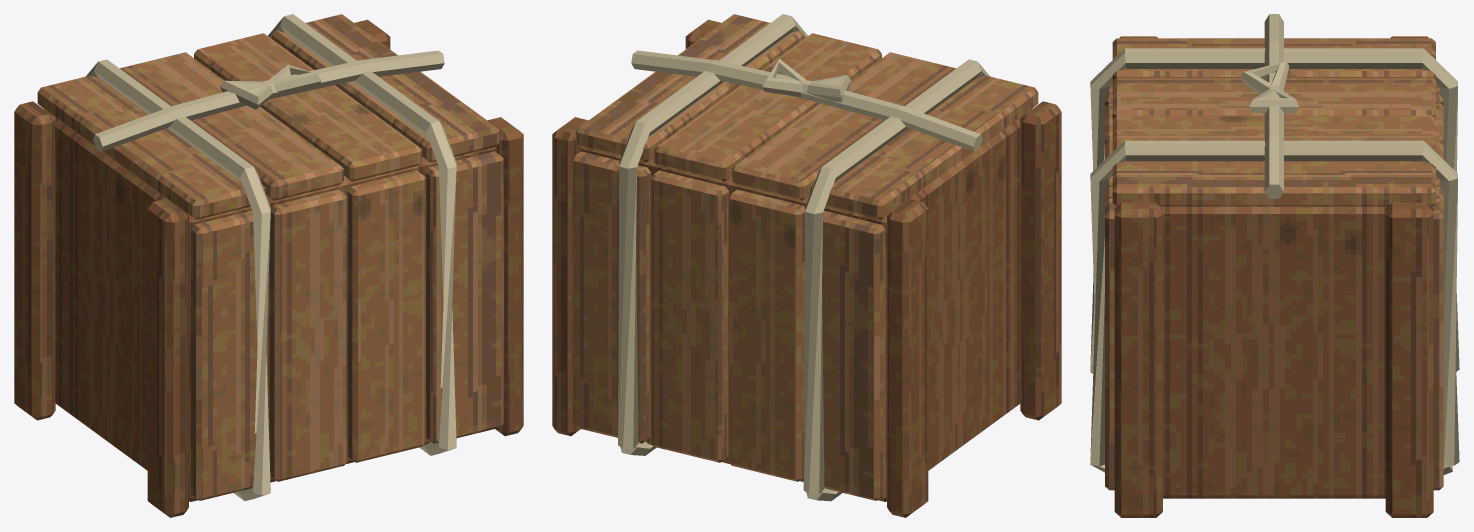
Rendered from holm_arrival_cargo_oldschool_v1.glb.
The picture shows the model from 3 angles, left to right: view 1: azimuth 30°, elevation 25°; view 2: azimuth 150°, elevation 25°; view 3: azimuth 270°, elevation 25°; orthographic projection.
Visible parts, largest first — view 1: LandingCargoCrate_Landing_cut_oak, LandingCargoCrate_Landing_aged_oak, LandingCargoCrate_Landing_flax_rope; view 2: LandingCargoCrate_Landing_cut_oak, LandingCargoCrate_Landing_aged_oak, LandingCargoCrate_Landing_flax_rope; view 3: LandingCargoCrate_Landing_aged_oak, LandingCargoCrate_Landing_cut_oak, LandingCargoCrate_Landing_flax_rope.
Boxes of the visible parts, x1,y1,x2,y2 form: LandingCargoCrate_Landing_cut_oak: (37, 14, 503, 500); LandingCargoCrate_Landing_aged_oak: (14, 19, 523, 517); LandingCargoCrate_Landing_flax_rope: (86, 14, 456, 500); LandingCargoCrate_Landing_cut_oak: (572, 14, 1038, 500); LandingCargoCrate_Landing_aged_oak: (552, 19, 1061, 517); LandingCargoCrate_Landing_flax_rope: (618, 14, 989, 501); LandingCargoCrate_Landing_aged_oak: (1114, 36, 1433, 517); LandingCargoCrate_Landing_cut_oak: (1105, 38, 1443, 490); LandingCargoCrate_Landing_flax_rope: (1090, 14, 1459, 474).
Size of the model in its own units: 0.965 by 0.8951 by 0.8447.
Materials: 3 (2 with a texture image).
